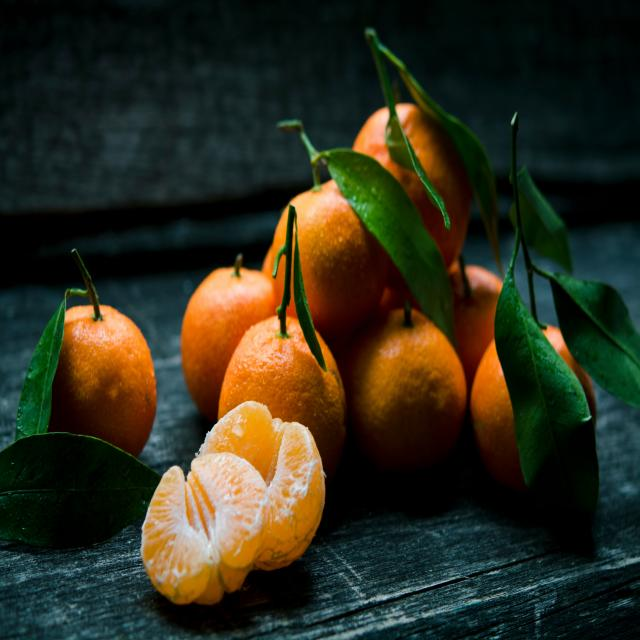tangerine: (18, 301, 159, 459), (218, 314, 347, 485), (341, 306, 466, 473), (271, 177, 388, 348), (352, 102, 472, 268), (181, 267, 278, 424)
